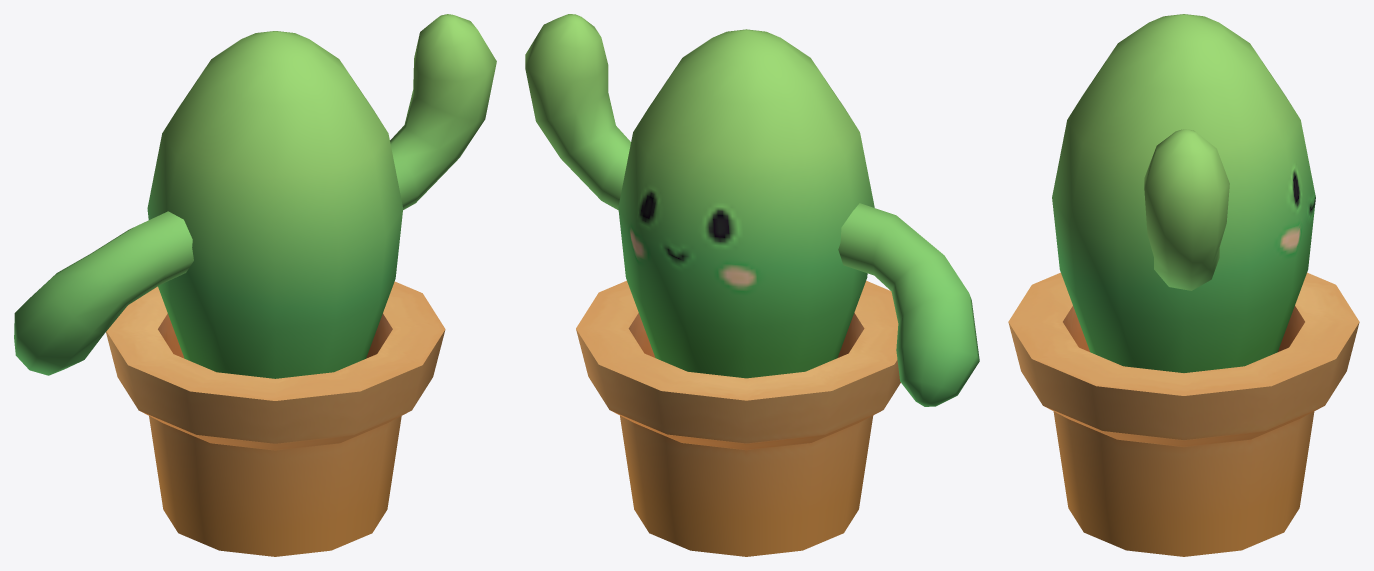
Rendered from cactus_vero.fbx.
The picture shows the model from 3 angles, left to right: view 1: azimuth 30°, elevation 25°; view 2: azimuth 150°, elevation 25°; view 3: azimuth 270°, elevation 25°; orthographic projection. The views are drawn at different scales.
Parts seen in each view (by area): view 1: Cactuuus; view 2: Cactuuus; view 3: Cactuuus.
Boxes of the visible parts, left/top/right/bottom form: Cactuuus: left=14, top=14, right=496, bottom=556; Cactuuus: left=525, top=14, right=979, bottom=556; Cactuuus: left=1008, top=14, right=1359, bottom=556.
Size of the model in its own units: 380 by 378 by 244.
1 material, 1 textured.
